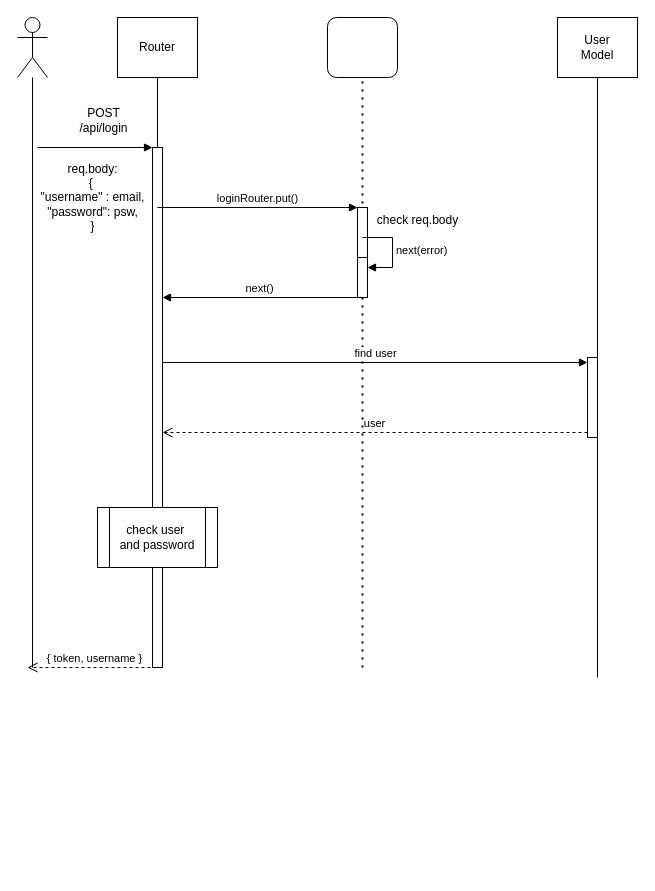
The diagram is 655 pixels wide and 891 high, and some of its shapes have lost their labels. Each missing label, with the box of its shape:
Client: (16, 16, 48, 78)
Refill Parser: (326, 16, 398, 78)
